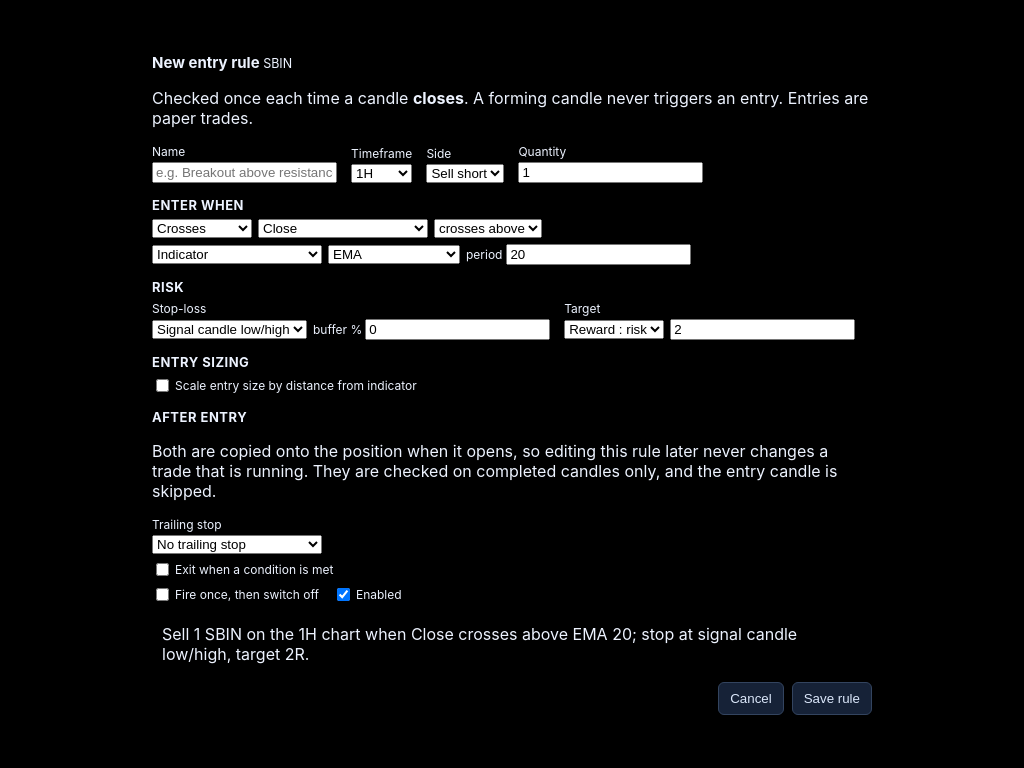
Scenario: RuleDialog › after entry › a short rule defaults its exit to a cross above
Step 1. Click the checkbox named "Exit on a condition" → (162, 570), box left=156, top=563, right=169, bottom=576
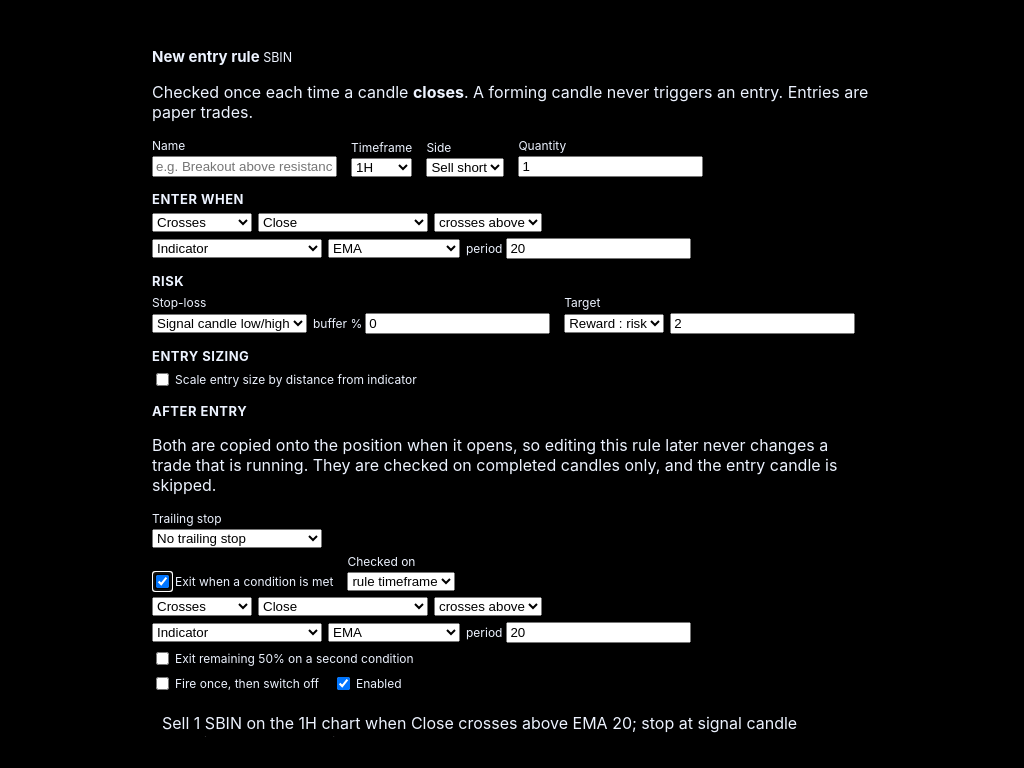
Now the dropdown named "x direction" shows "crosses above", box left=434, top=597, right=542, bottom=616
